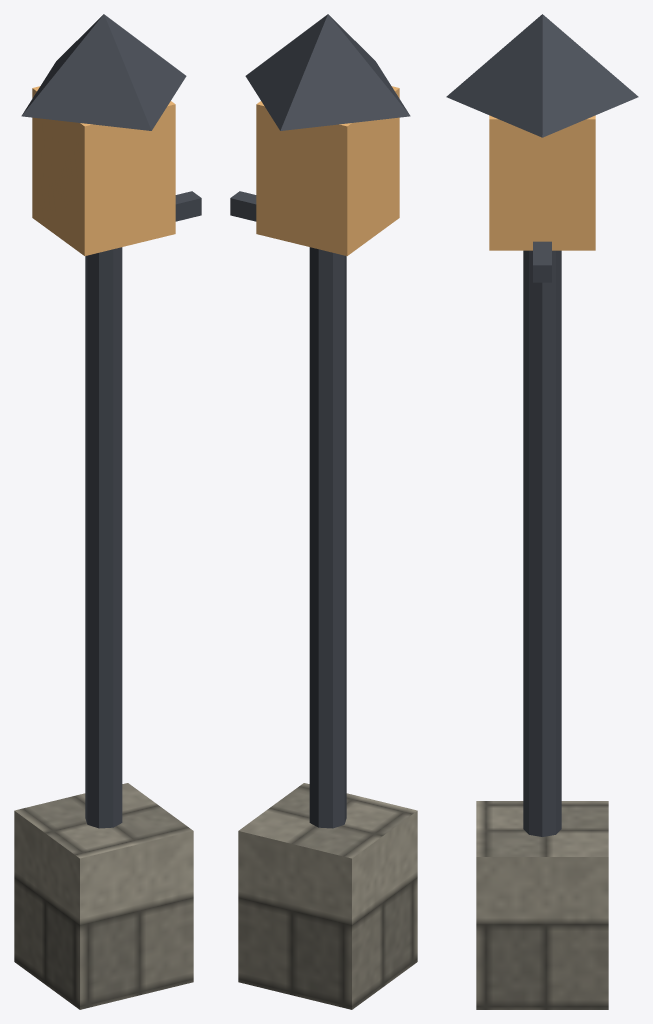
Rendered from ENV_C_Streetlamp.fbx.
3 views of the same model, side by side, from view 1: azimuth 30°, elevation 25°; view 2: azimuth 150°, elevation 25°; view 3: azimuth 270°, elevation 25° (orthographic).
Parts seen in each view (by area): view 1: ENV_C_Streetlamp; view 2: ENV_C_Streetlamp; view 3: ENV_C_Streetlamp.
Part boxes in pixels (left/top/right/bottom): ENV_C_Streetlamp: left=14, top=14, right=201, bottom=1009; ENV_C_Streetlamp: left=230, top=14, right=417, bottom=1009; ENV_C_Streetlamp: left=446, top=14, right=638, bottom=1009.
Size of the model in its own units: 85 by 443 by 80.
3 materials, 1 textured.
